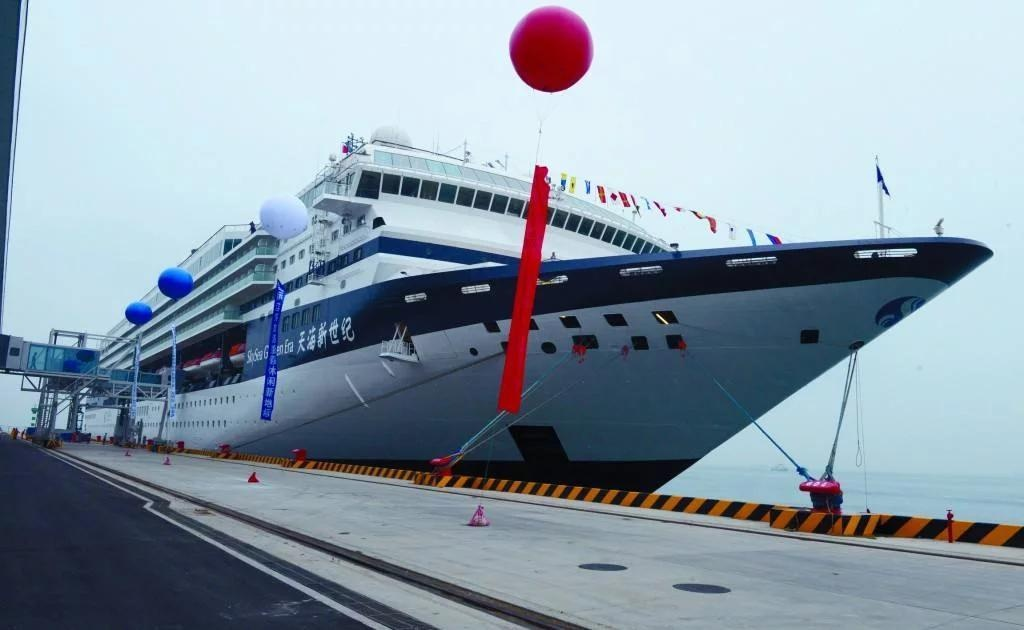youlun: (77, 119, 996, 440)
